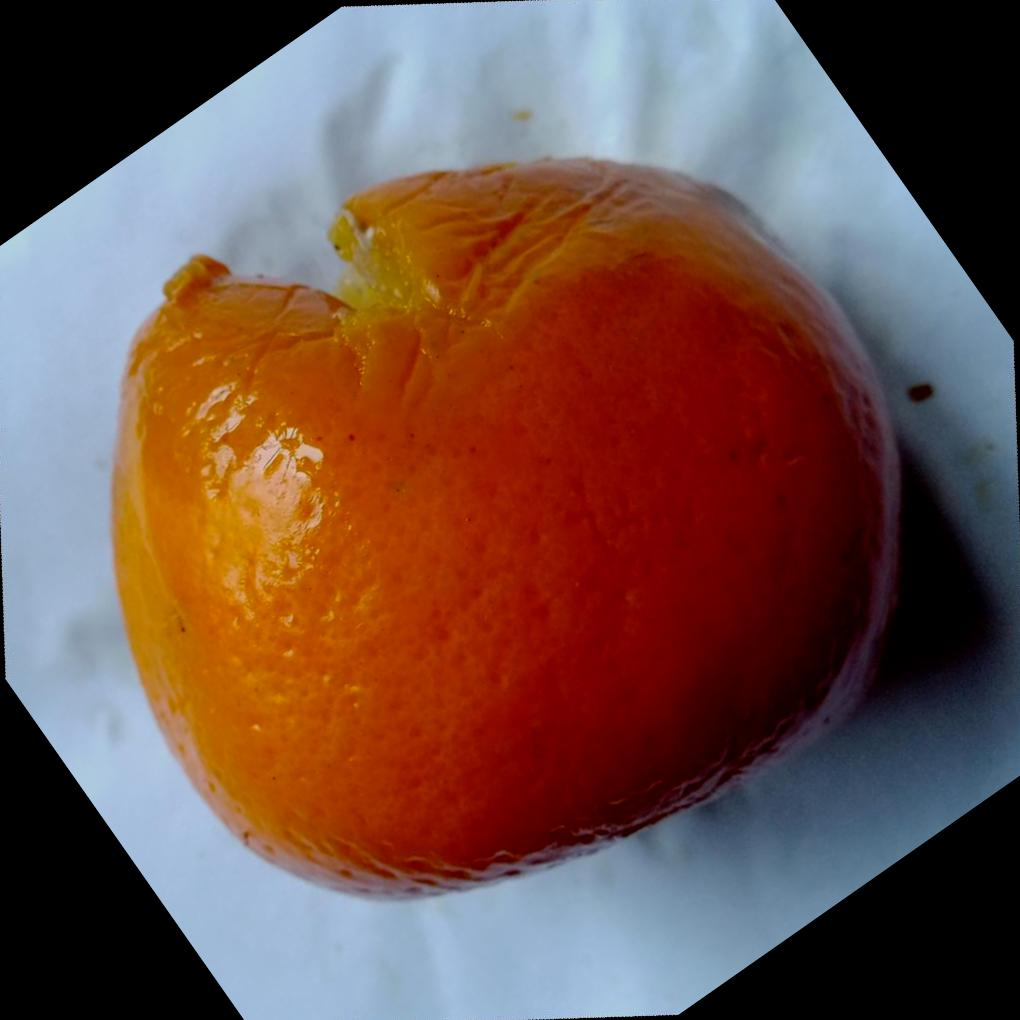FreshOrange: (111, 152, 910, 902)
